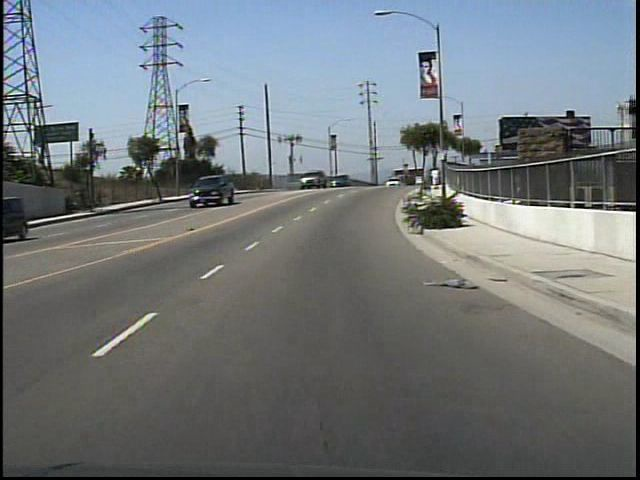person: (429, 165, 443, 193)
